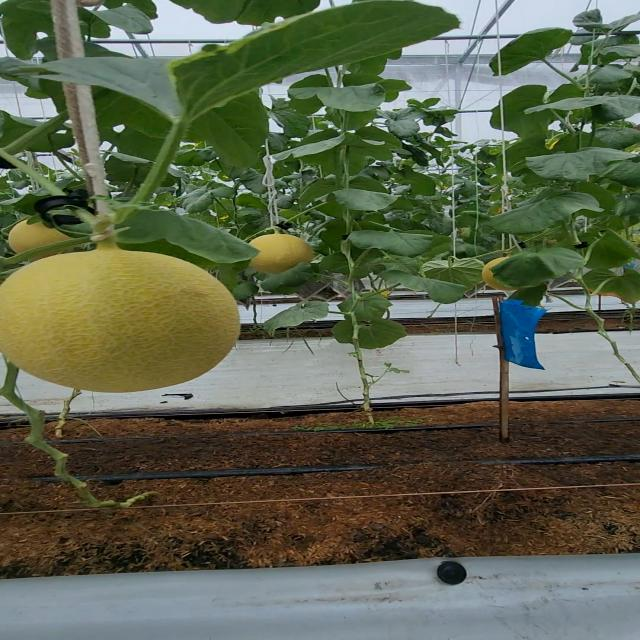Melon: (7, 250, 247, 394), (246, 232, 316, 274), (6, 218, 77, 254)
